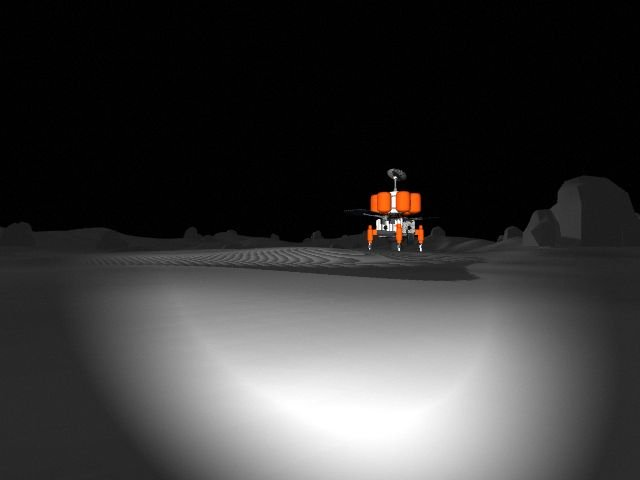homebase: (345, 165, 441, 253)
